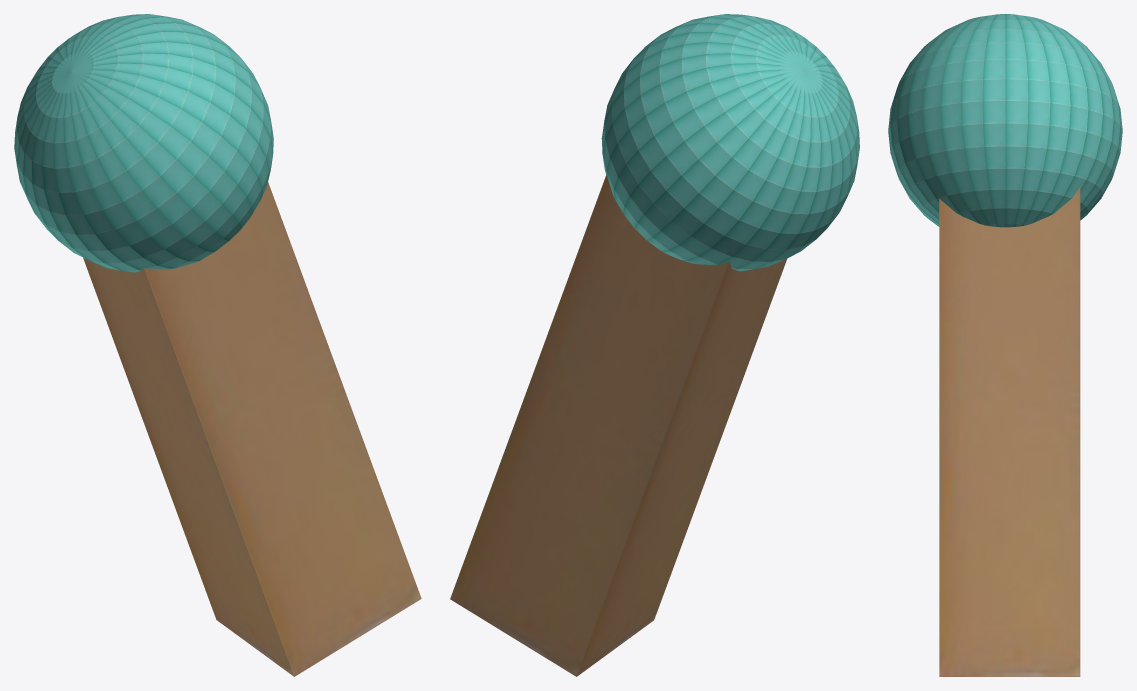
The model's file is romeoleftarm.obj.
The picture shows the model from 3 angles, left to right: view 1: azimuth 30°, elevation 25°; view 2: azimuth 150°, elevation 25°; view 3: azimuth 270°, elevation 25°; orthographic projection. The views are drawn at different scales.
Visible parts, largest first — view 1: Cube.005_Cube.007, Sphere.001; view 2: Cube.005_Cube.007, Sphere.001; view 3: Cube.005_Cube.007, Sphere.001.
Boxes of the visible parts, <box> form: Cube.005_Cube.007: <box>83,182,421,676</box>; Sphere.001: <box>14,14,273,272</box>; Cube.005_Cube.007: <box>450,174,786,676</box>; Sphere.001: <box>601,14,859,271</box>; Cube.005_Cube.007: <box>939,187,1080,676</box>; Sphere.001: <box>888,14,1122,227</box>.
Bounding box in the file's own units: 1.93 × 3.41 × 1.23.
2 materials, 2 textured.
